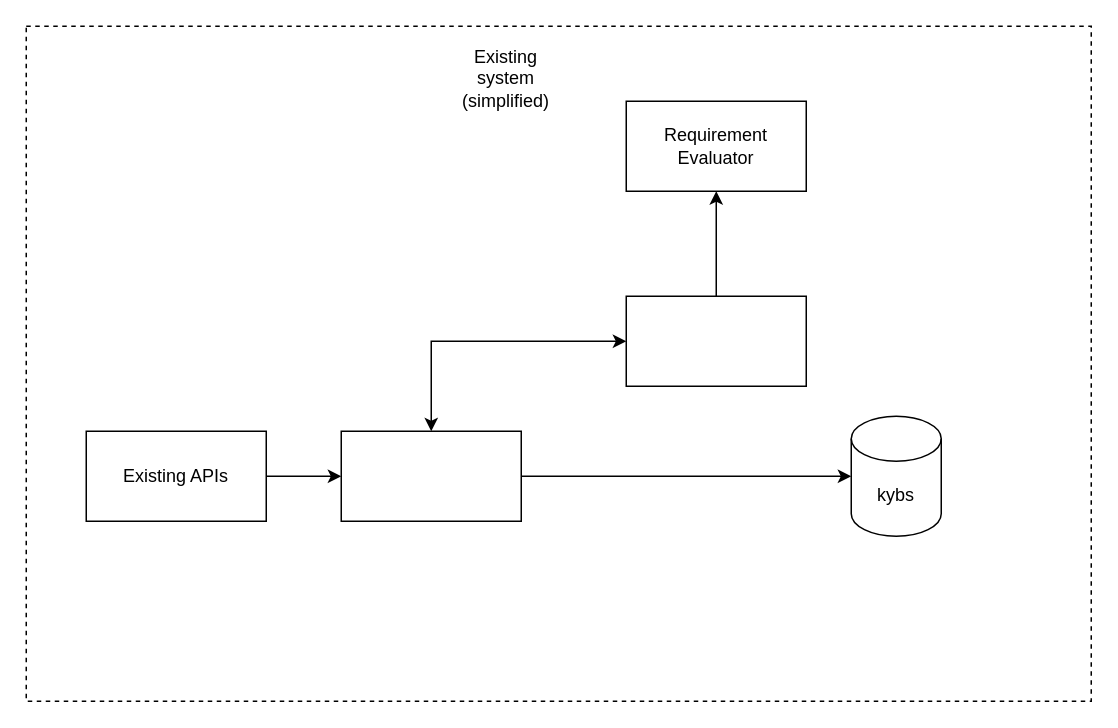
Image size: 1118x728. Some labels were removed from this diagram. The box of each missing label's shape, as (x1, y1, x2, y2) in pixels:
KYB service: (340, 430, 521, 521)
State Machine: (625, 295, 806, 386)
